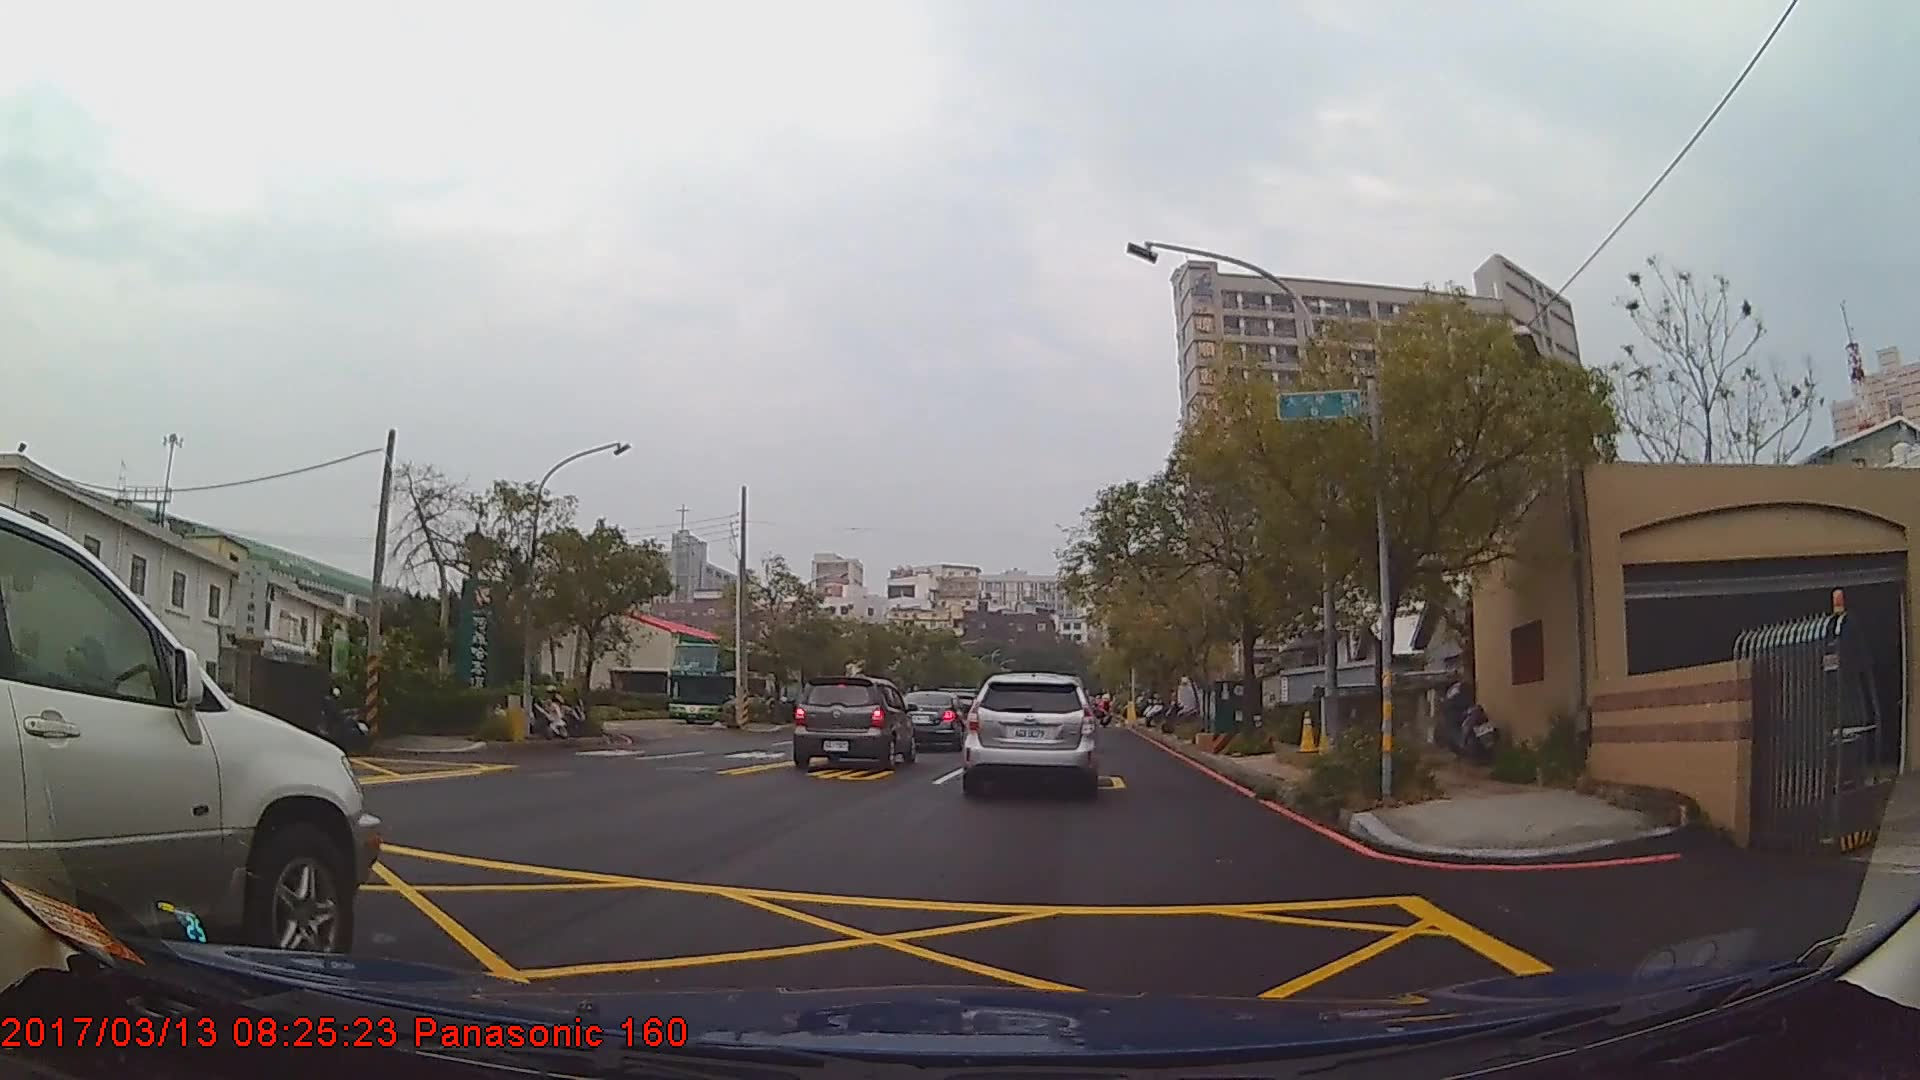vehicle: (0, 504, 380, 996), (961, 673, 1101, 802), (791, 680, 918, 773), (669, 644, 786, 728), (895, 691, 973, 756)
